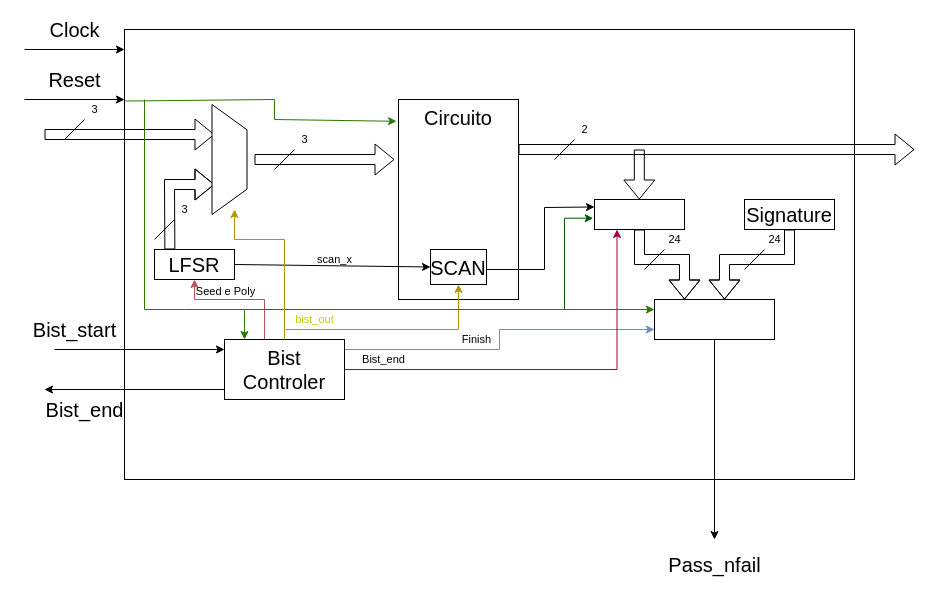
The diagram is 932 pixels wide and 593 high, and some of its shapes have lost their labels. The shapes that lost their labels are listed below. From the top down, each one's centre as x and y in pixels, then its label:
At (x=229, y=159): "MUX".
At (x=639, y=214): "MISR".
At (x=714, y=319): "Comparador".
